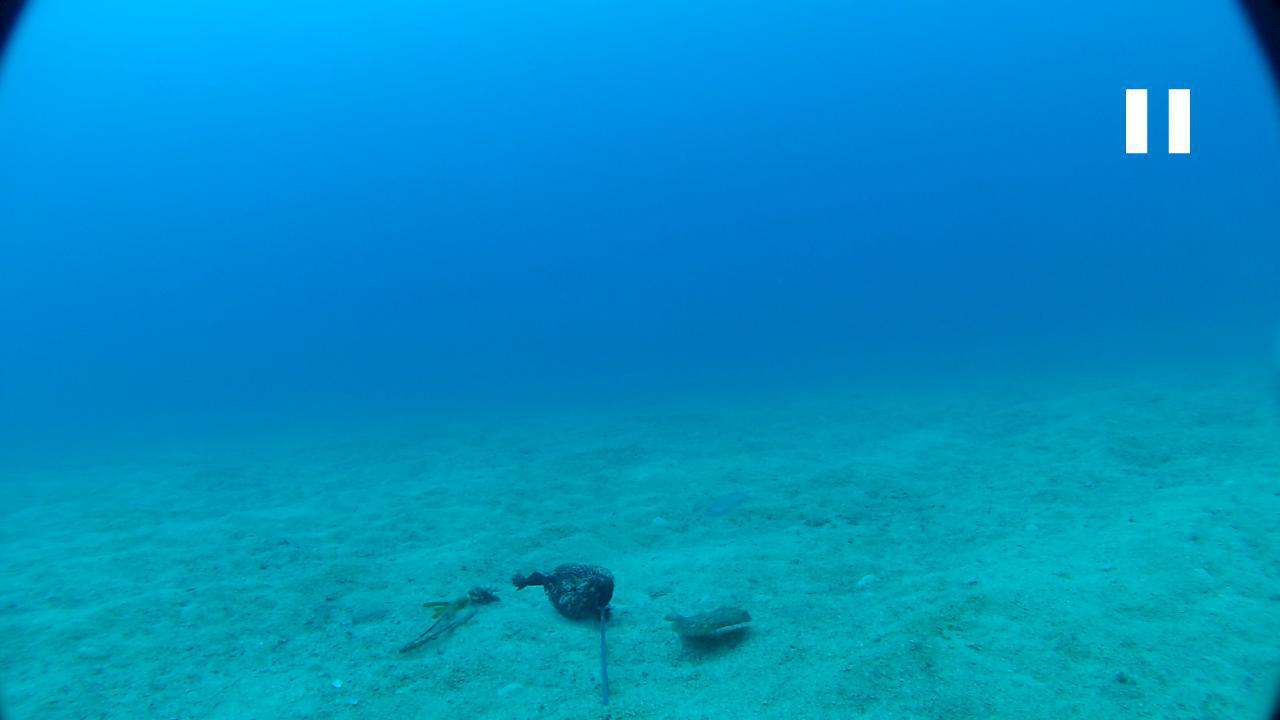bothus: (666, 602, 758, 637)
raor: (708, 489, 749, 522)
